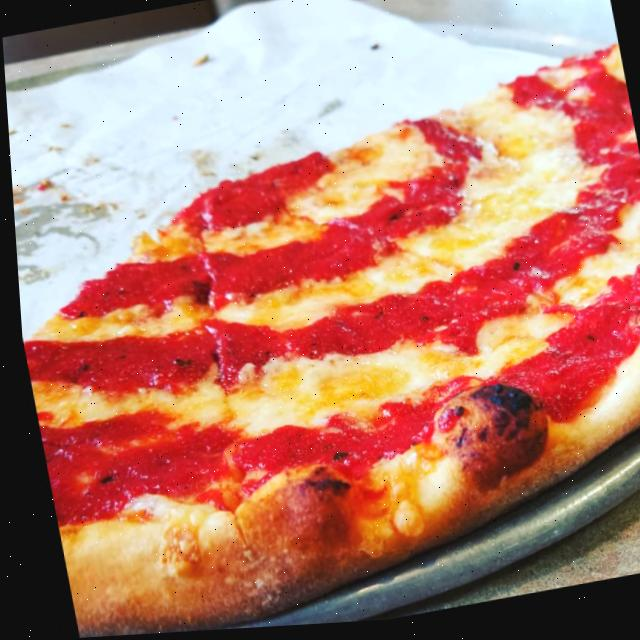pizza: (4, 49, 640, 640)
